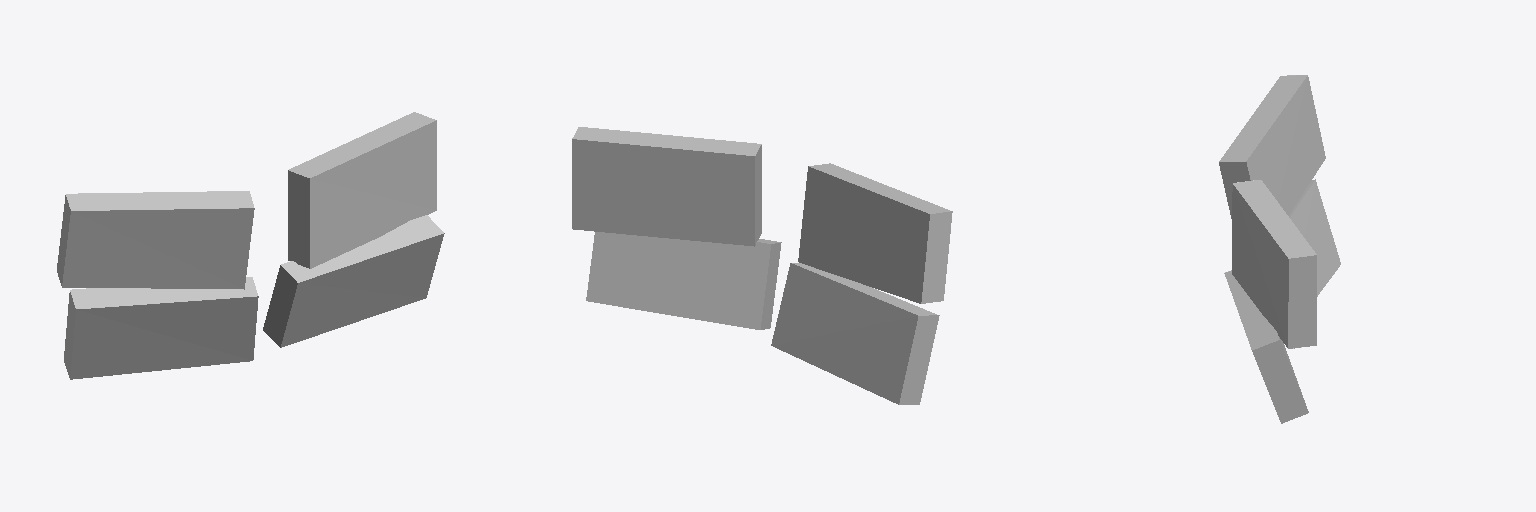
The model's file is room_wall_broken.obj.
The picture shows the model from 3 angles: view 1: azimuth 30°, elevation 25°; view 2: azimuth 150°, elevation 25°; view 3: azimuth 270°, elevation 25°; orthographic projection.
Visible parts, largest first — view 1: room_wall_broken.obj; view 2: room_wall_broken.obj; view 3: room_wall_broken.obj.
Part boxes in pixels (left/top/right/bottom): room_wall_broken.obj: left=57, top=112, right=444, bottom=379; room_wall_broken.obj: left=572, top=127, right=952, bottom=404; room_wall_broken.obj: left=1219, top=75, right=1340, bottom=423.
Size of the model in its own units: 1.14 by 0.5586 by 0.3269.